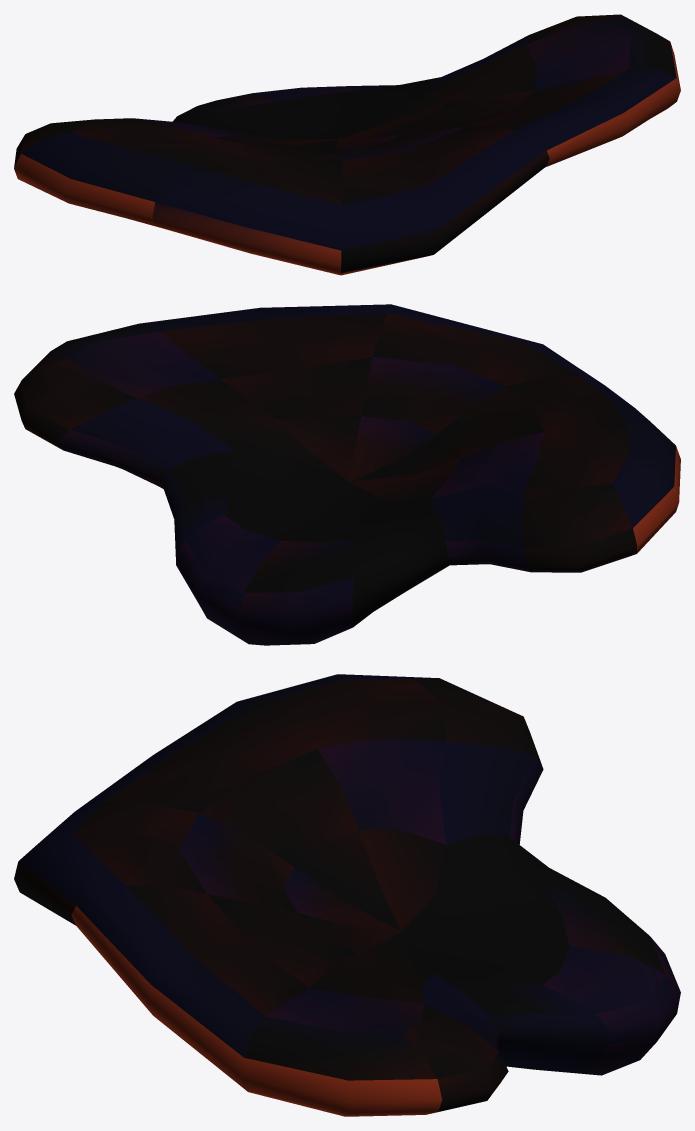
The model's file is Ganoderma_Medium.FBX.
3 views of the same model, one above another, from view 1: azimuth 30°, elevation 25°; view 2: azimuth 150°, elevation 25°; view 3: azimuth 270°, elevation 25° (orthographic). The views are drawn at different scales.
Parts seen in each view (by area): view 1: G_low001; view 2: G_low001; view 3: G_low001.
Part boxes in pixels (bbox=[...]): G_low001: bbox=[14, 14, 680, 275]; G_low001: bbox=[14, 304, 680, 645]; G_low001: bbox=[14, 674, 680, 1116].
Bounding box in the file's own units: 39.82 × 10.52 × 28.67.
